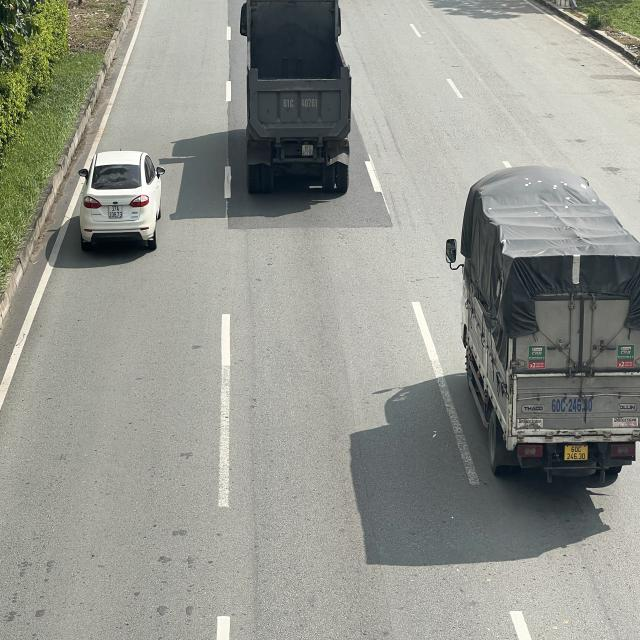car: (76, 150, 165, 247)
container: (238, 0, 354, 193)
truck: (445, 167, 638, 484)
